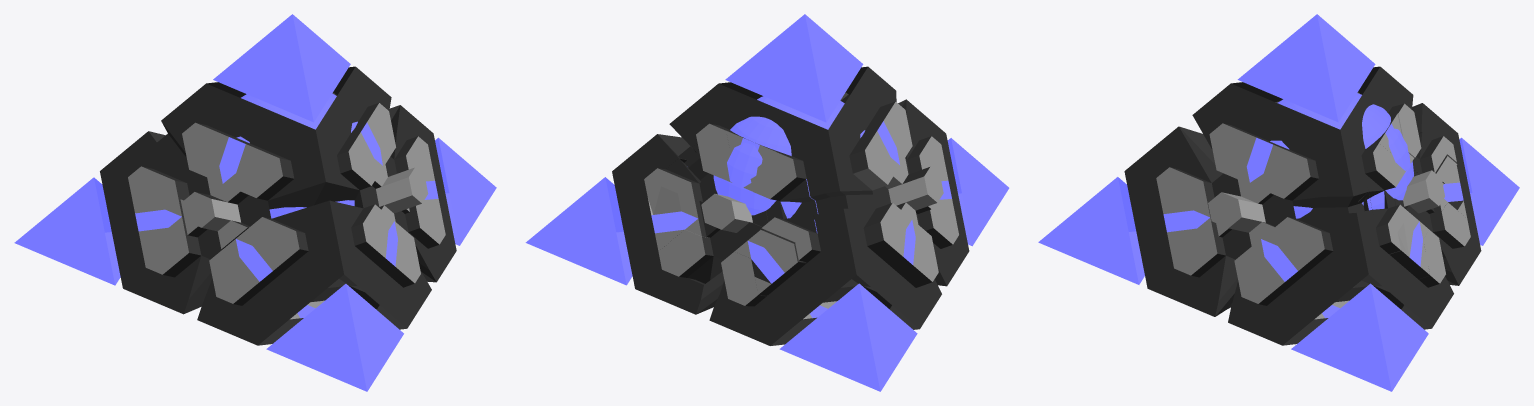
The model's file is tothian_mine_blue_small.glb.
The picture shows the model from 3 angles, left to right: view 1: azimuth 30°, elevation 25°; view 2: azimuth 150°, elevation 25°; view 3: azimuth 270°, elevation 25°; orthographic projection.
Parts seen in each view (by area): view 1: Cone, Sphere; view 2: Cone, Sphere; view 3: Cone, Sphere.
Part boxes in pixels (<box>): Cone: <box>14,14,496,391</box>; Sphere: <box>236,93,357,218</box>; Cone: <box>525,14,1009,391</box>; Sphere: <box>713,96,865,233</box>; Cone: <box>1038,14,1519,391</box>; Sphere: <box>1270,93,1413,218</box>.
Size of the model in its own units: 0.3346 by 0.2186 by 0.3336.
